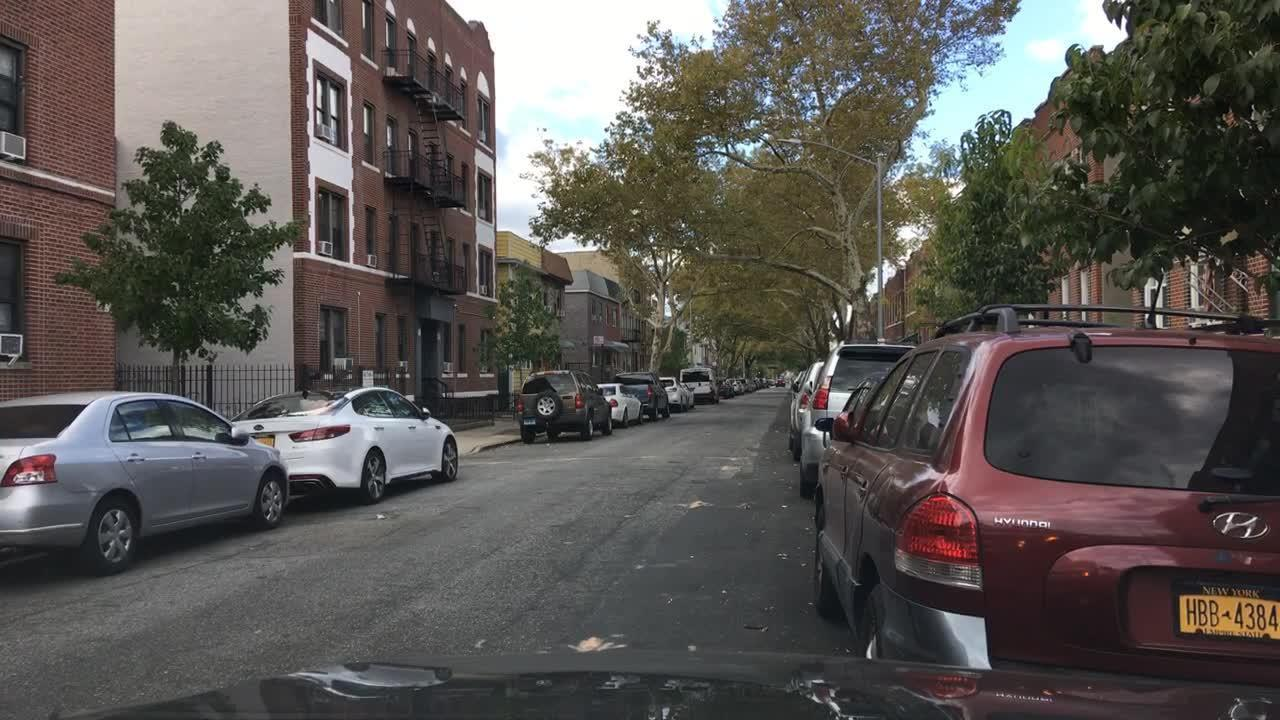Hyundai: (1195, 499, 1278, 553)
